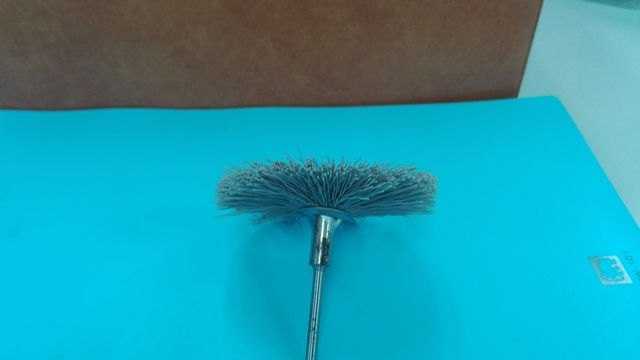TOOL: (172, 147, 453, 304)
